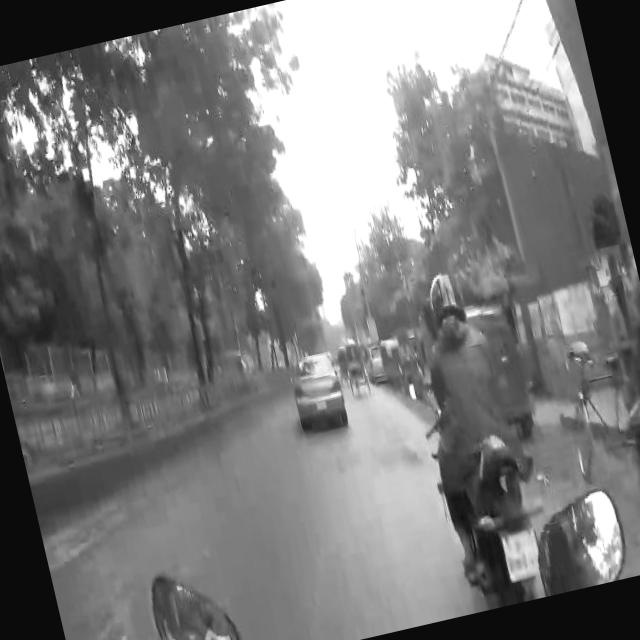car: (282, 348, 354, 442)
motorcycle: (410, 354, 567, 614), (336, 330, 378, 404)
